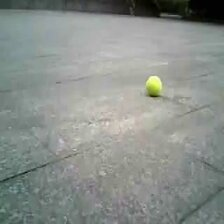tennis: (146, 76, 161, 94)
